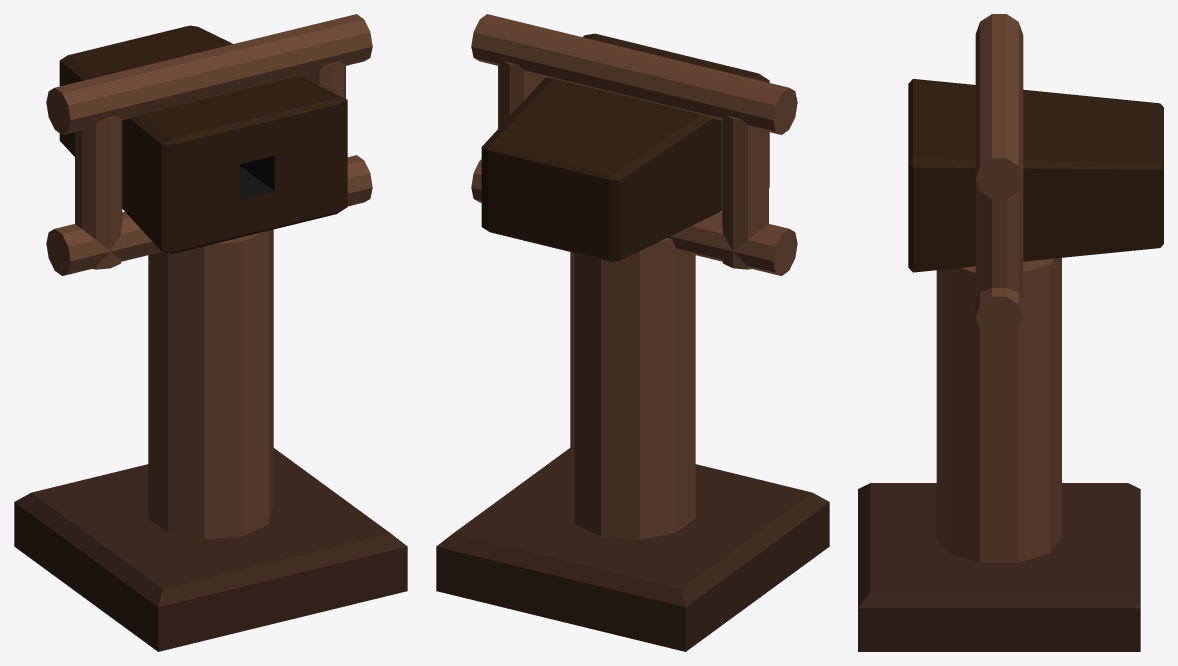
File: turretWood.glb
3 views of the same model, side by side, from view 1: azimuth 30°, elevation 25°; view 2: azimuth 150°, elevation 25°; view 3: azimuth 270°, elevation 25° (orthographic). The views are drawn at different scales.
Visible parts, largest first — view 1: head, base, body; view 2: head, base, body; view 3: head, base, body.
Part boxes in pixels (x1,y1,x2,y2): head: (46,14,372,275); base: (14,448,407,651); body: (148,229,273,539); head: (471,14,797,275); base: (436,448,829,651); body: (570,238,695,539); head: (908,14,1163,337); base: (858,483,1140,651); body: (936,258,1061,562).
Bounding box in the file's own units: 2.17 × 3.54 × 1.94.
1 material, 1 textured.
